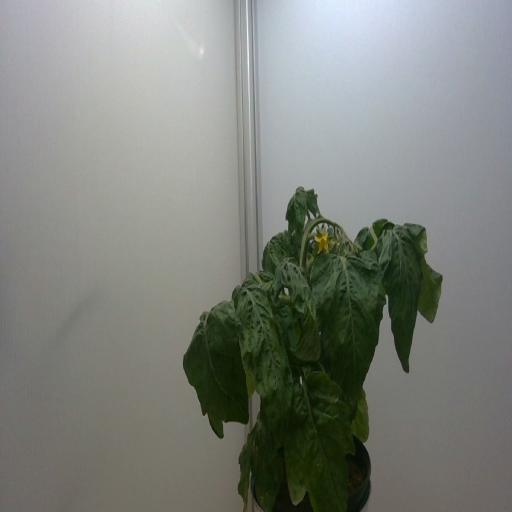Tomato-Leaves-Cupboard-: (287, 373, 355, 512), (235, 276, 292, 440), (178, 301, 250, 429), (376, 223, 420, 377), (406, 217, 445, 331), (279, 252, 317, 324), (252, 413, 280, 506), (348, 382, 376, 452), (288, 317, 326, 367), (233, 427, 253, 512), (359, 208, 398, 248), (261, 237, 283, 274), (285, 188, 304, 229), (306, 188, 320, 215)
